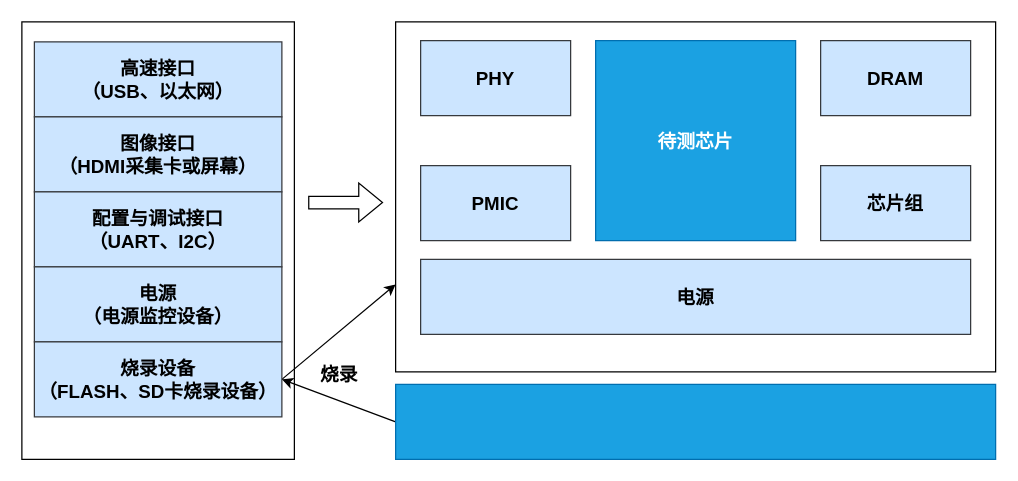
Some shapes in this 1018 by 481 pixel diagram are drawn without their labels. The shapes that lost their labels are listed below. From the top down, each one's box as (x1, y1, x2, y2) in pixels, then its label:
(394, 21, 996, 372): 待测系统/板卡
(21, 21, 294, 459): 测试机
(394, 383, 996, 459): 测试程序
